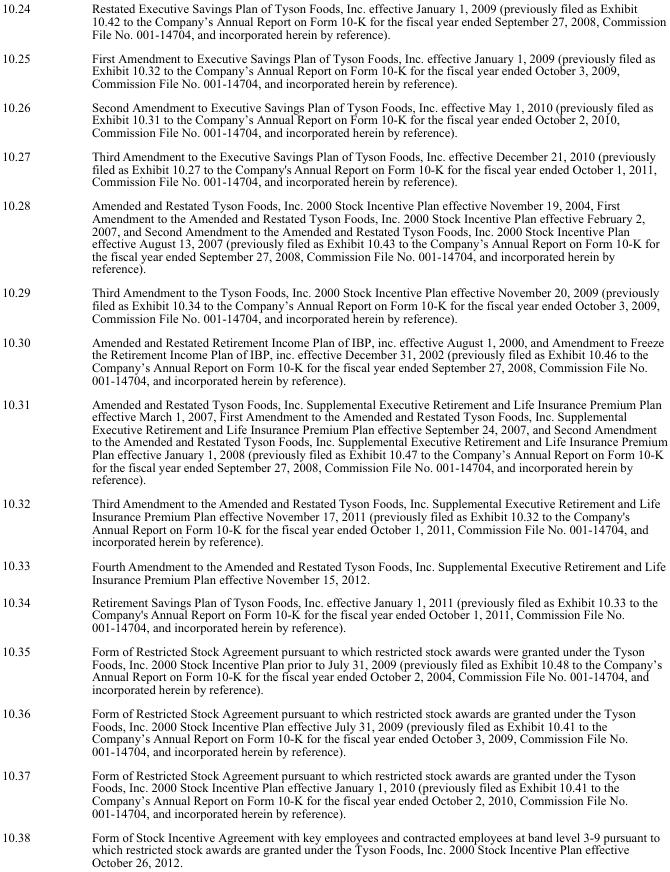table: (1, 1, 666, 868)
table column: (60, 1, 666, 868), (1, 1, 60, 868)
table row: (1, 391, 666, 491), (1, 193, 666, 280), (1, 329, 666, 391), (1, 638, 666, 700), (1, 700, 666, 762), (1, 762, 666, 824), (1, 491, 666, 552), (1, 143, 666, 193), (1, 45, 666, 94), (1, 94, 666, 143), (1, 280, 666, 329), (1, 590, 666, 638), (1, 1, 666, 45), (1, 824, 666, 868), (1, 552, 666, 590)
